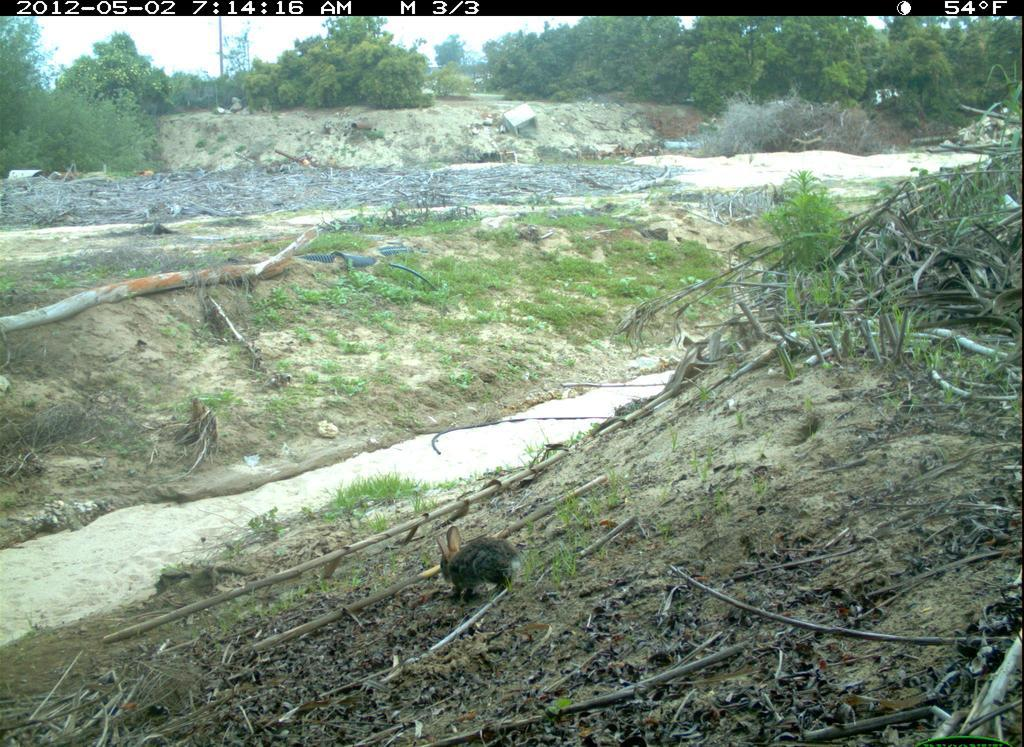rabbit: (431, 524, 525, 606)
